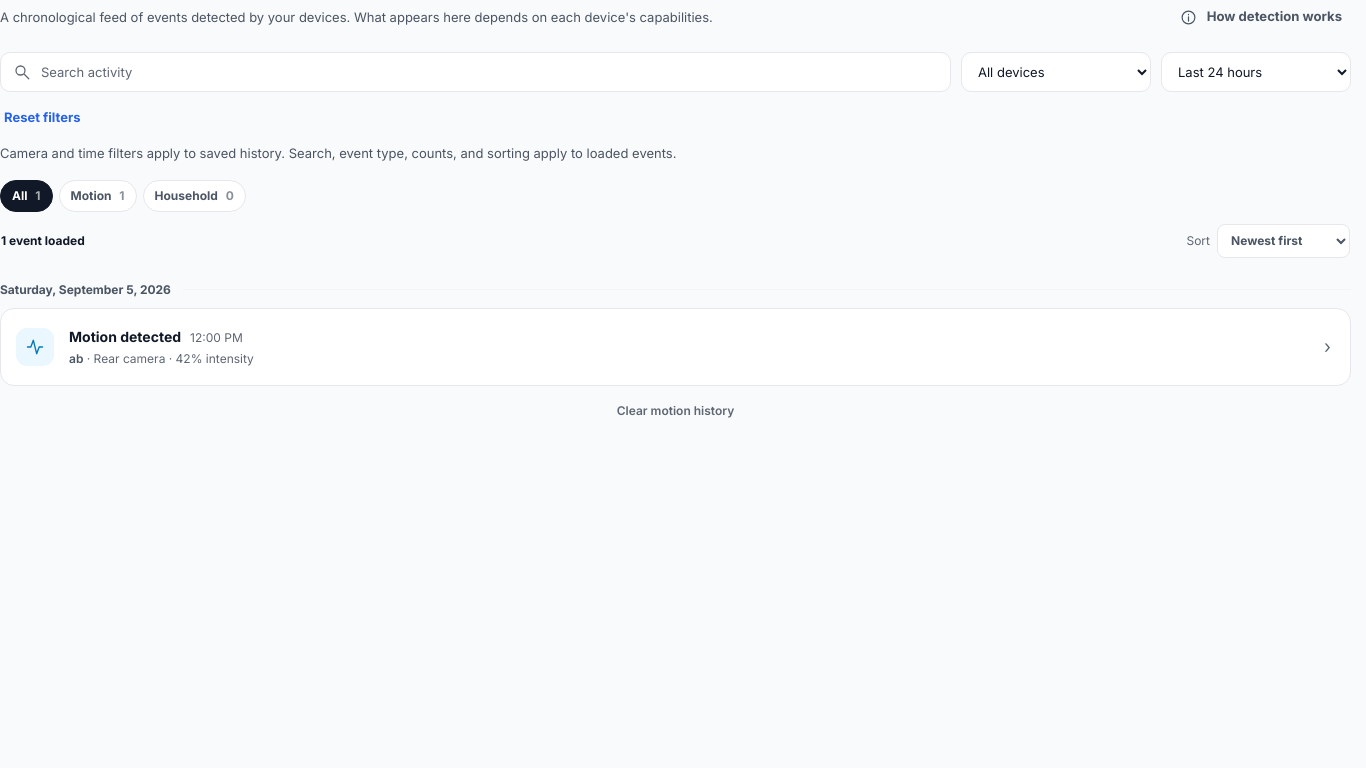
Scenario: Activity timeline › labels motion from the API as motion regardless of its event ID
Expected: the text "Motion detected" is shown, [69,326,181,346]
Click the text "ab": (76, 358) [69,350,83,366]
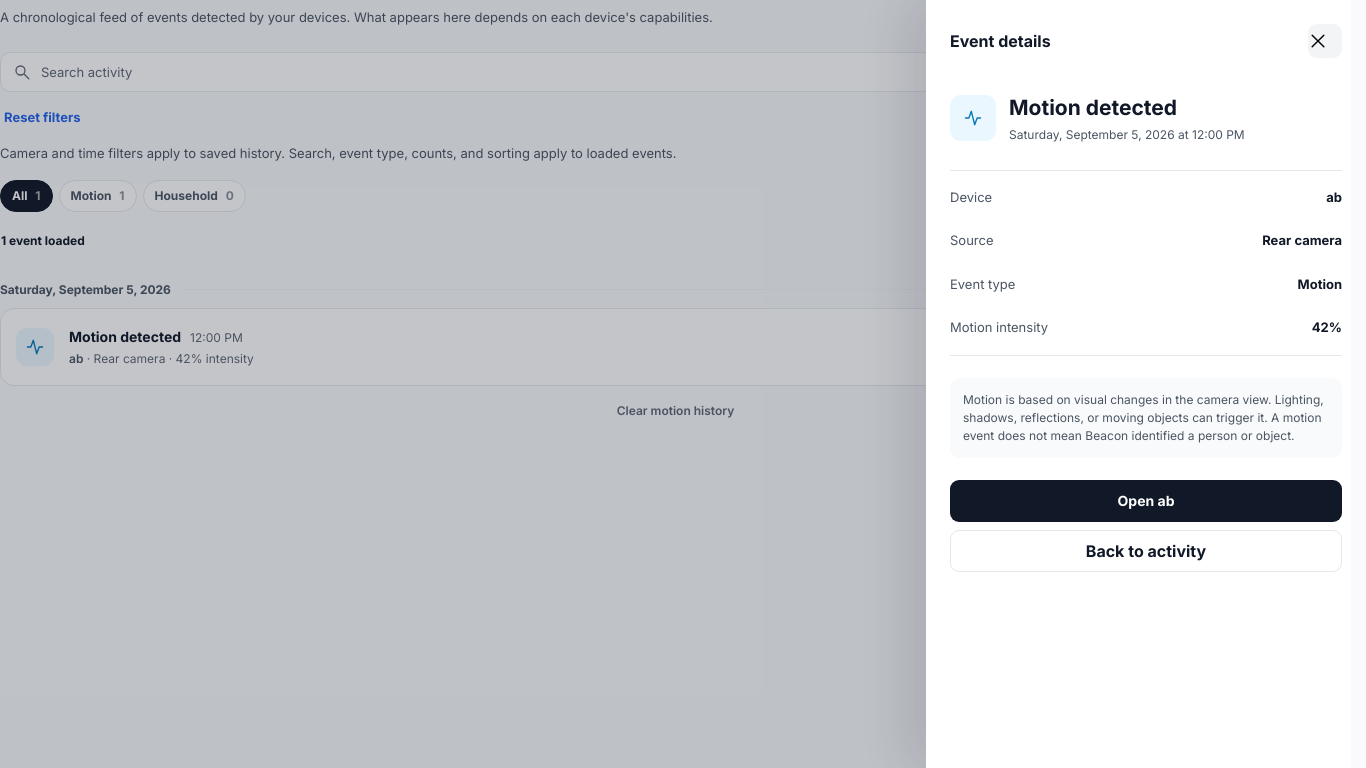
Expected: the dialog does not show "Animal detected", [926,0,1365,767]
Now the dialog shows "Motion intensity", box [950,319,1048,335]
